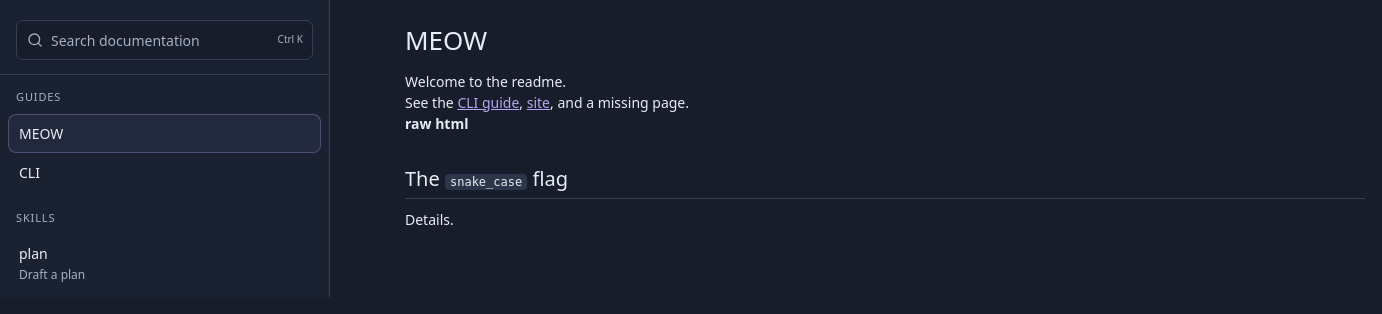
Test case: opening another doc resets the scroll position
Expected: the text "Welcome to the readme." is shown, 405,72 -> 566,91
Click the button "plan Draft a plan" at (52, 274), box 8,234 -> 321,293
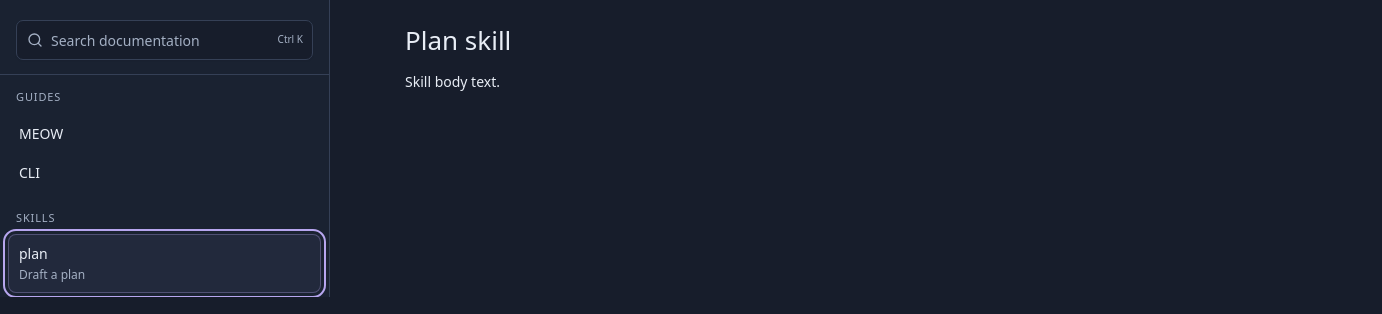
Expected: the text "Skill body text." is shown, 405,72 -> 500,91
